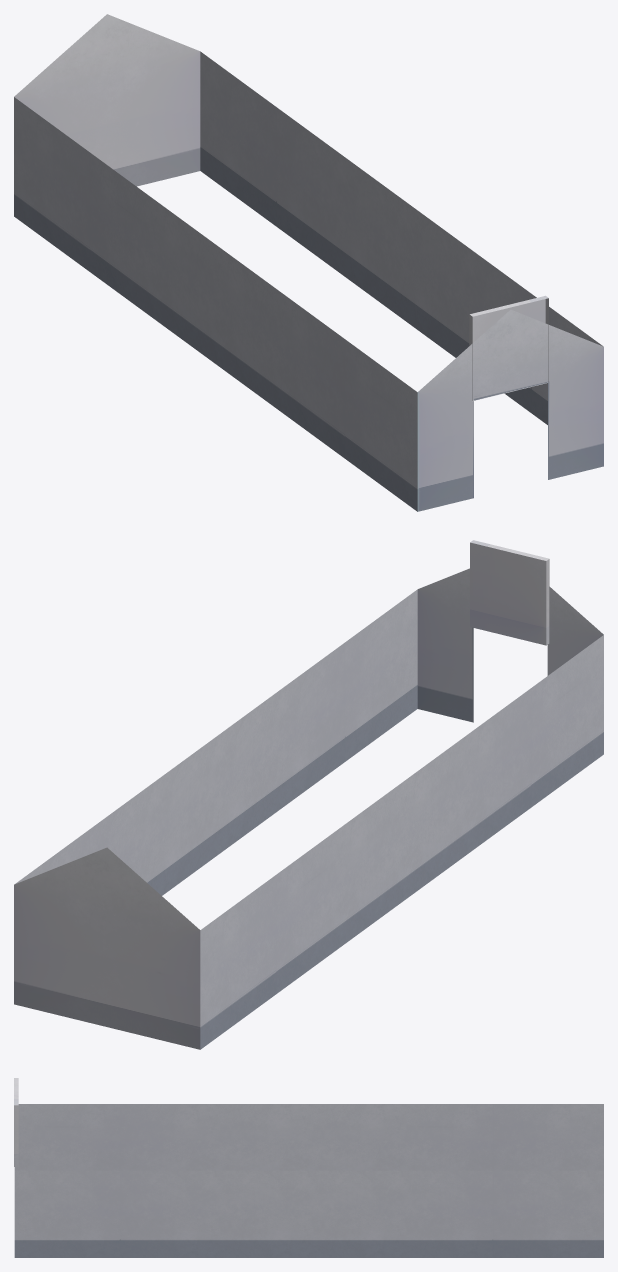
Rendered from Pared 1.fbx.
The picture shows the model from 3 angles, top to bottom: view 1: azimuth 30°, elevation 25°; view 2: azimuth 150°, elevation 25°; view 3: azimuth 270°, elevation 25°; orthographic projection. The views are drawn at different scales.
Visible parts, largest first — view 1: paredes; view 2: paredes; view 3: paredes.
Boxes of the visible parts, <box> form: paredes: <box>14,14,603,511</box>; paredes: <box>14,540,603,1049</box>; paredes: <box>14,1078,603,1257</box>.
Bounding box in the file's own units: 880 × 821 × 3303.
1 material, 1 textured.
